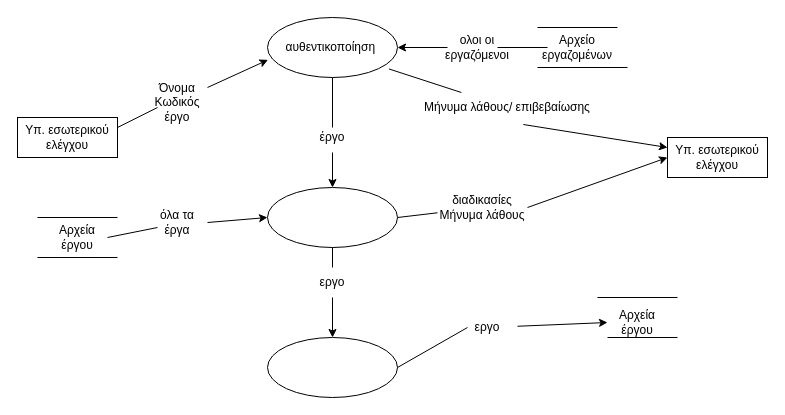
This 785x415 diagram has some shape labels left out. The centre of each missing label's shape, as x and y in pixels:
Αναζήτηση έργου: point 332,217
Προσθήκη έργου: point 332,367
